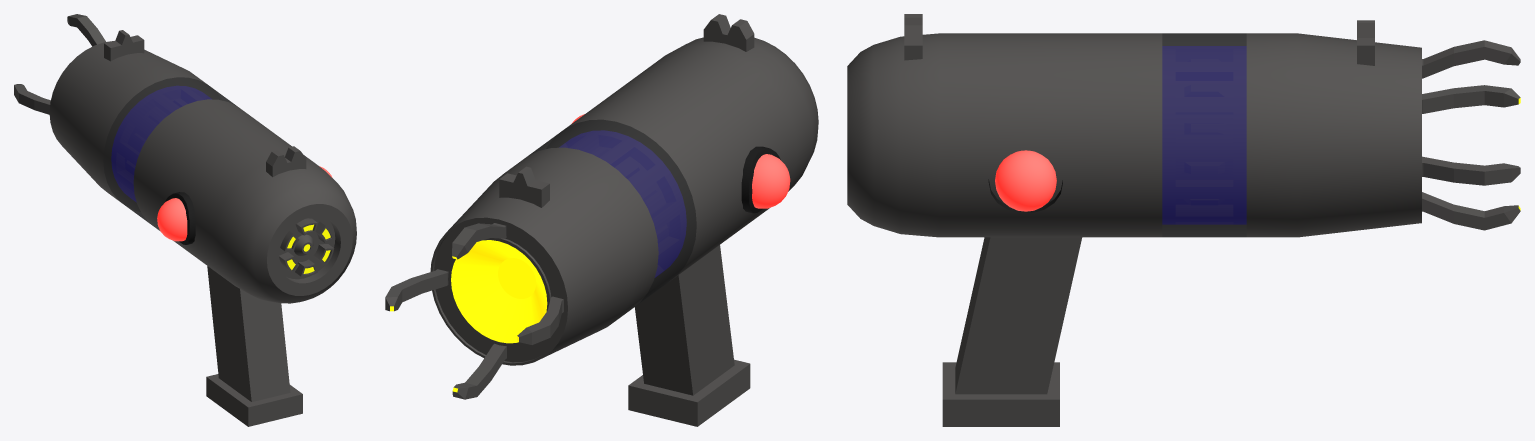
File: oppositegun.glb
3 renders of one model, left to right at view 1: azimuth 30°, elevation 25°; view 2: azimuth 150°, elevation 25°; view 3: azimuth 270°, elevation 25°, orthographic. The views are drawn at different scales.
Visible parts, largest first — view 1: OppositeGun, Glass, PowerSpinny, Spinner, Indicator, GrabbyThings; view 2: OppositeGun, Glass, PowerSpinny, GrabbyThings, Indicator; view 3: OppositeGun, Glass, PowerSpinny, GrabbyThings, Indicator.
Boxes of the visible parts, left/top/right/bottom form: OppositeGun: left=49, top=30, right=356, bottom=426; Glass: left=103, top=77, right=236, bottom=226; PowerSpinny: left=112, top=86, right=210, bottom=201; Spinner: left=278, top=216, right=335, bottom=279; Indicator: left=157, top=166, right=332, bottom=244; GrabbyThings: left=14, top=14, right=105, bottom=114; OppositeGun: left=430, top=14, right=818, bottom=426; Glass: left=528, top=119, right=696, bottom=307; PowerSpinny: left=561, top=131, right=686, bottom=276; GrabbyThings: left=385, top=223, right=563, bottom=399; Indicator: left=571, top=114, right=790, bottom=213; OppositeGun: left=847, top=14, right=1421, bottom=426; Glass: left=1162, top=33, right=1246, bottom=237; PowerSpinny: left=1163, top=46, right=1245, bottom=223; GrabbyThings: left=1422, top=40, right=1520, bottom=230; Indicator: left=988, top=150, right=1062, bottom=212.
Bounding box in the file's own units: 0.1406 × 0.2164 × 0.3416.
